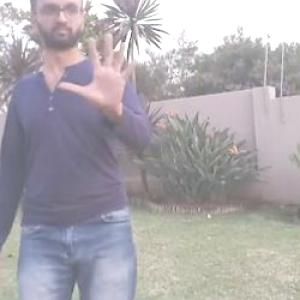follow_hand: (57, 28, 142, 114)
